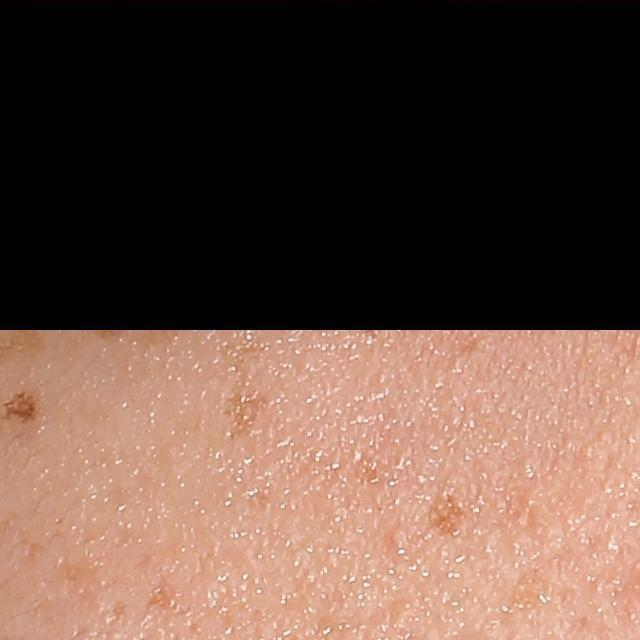melasma: (488, 529, 624, 632), (213, 334, 283, 450), (84, 299, 181, 349), (102, 574, 180, 634), (424, 489, 474, 547)
